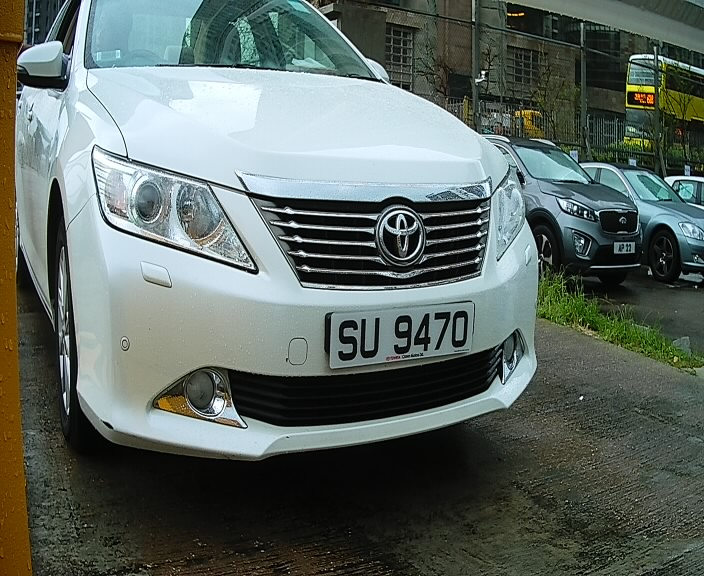Car: (14, 2, 557, 505)
License Plate: (303, 297, 496, 376)
